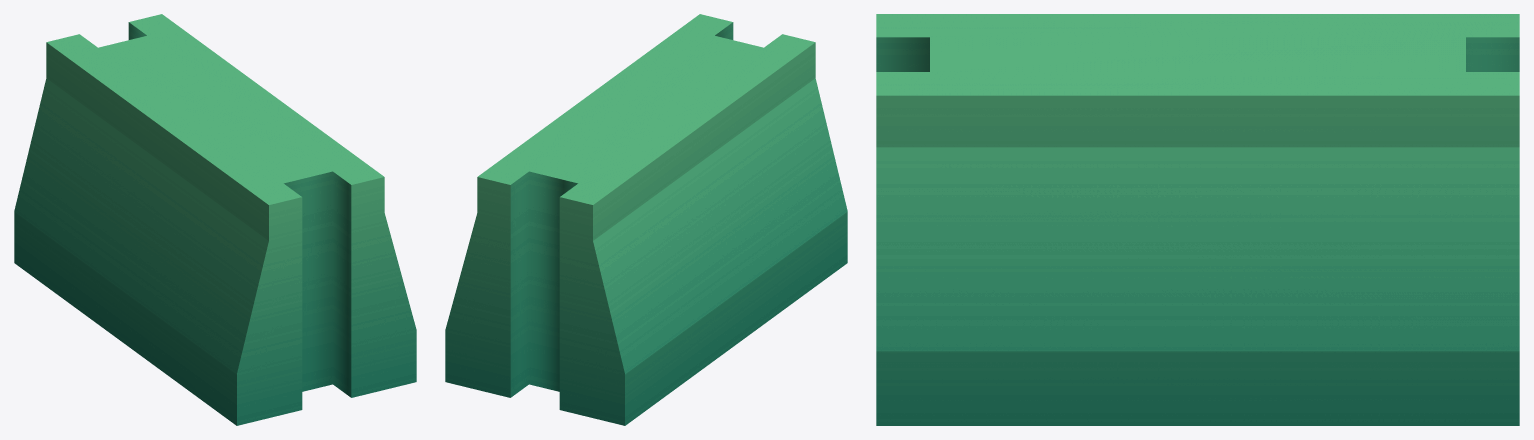
The model's file is construction_barrier.glb.
3 renders of one model, left to right at view 1: azimuth 30°, elevation 25°; view 2: azimuth 150°, elevation 25°; view 3: azimuth 270°, elevation 25°, orthographic. The views are drawn at different scales.
Visible parts, largest first — view 1: construction-barrier; view 2: construction-barrier; view 3: construction-barrier.
Boxes of the visible parts, box(x1,y1,x2,y2) form: construction-barrier: box(14, 14, 416, 425); construction-barrier: box(445, 14, 847, 425); construction-barrier: box(876, 14, 1519, 425).
Bounding box in the file's own units: 0.105 × 0.1187 × 0.225.
Materials: 1 (1 with a texture image).
